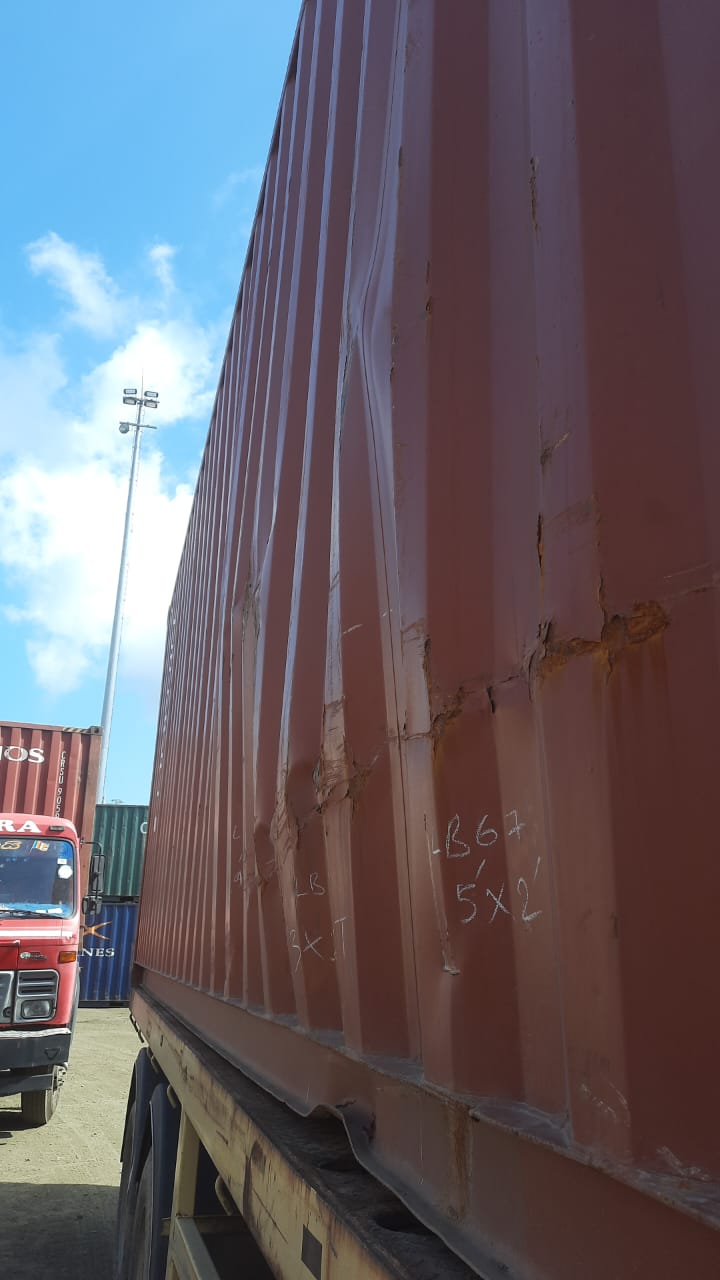bulged: (292, 157, 446, 579)
dented: (198, 691, 423, 933)
rust: (431, 594, 669, 768)
